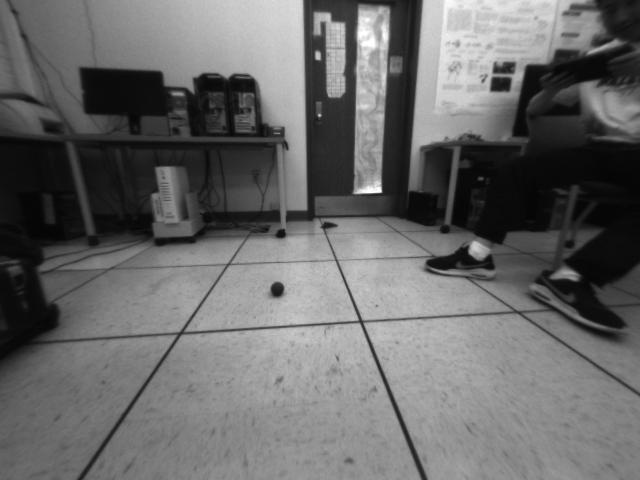dogtoy: (258, 274, 295, 304)
